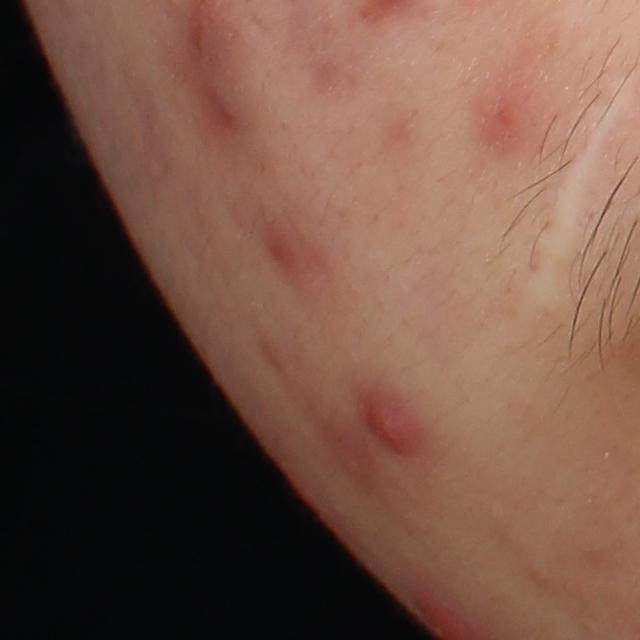papule: (355, 377, 432, 471), (258, 212, 339, 287)
